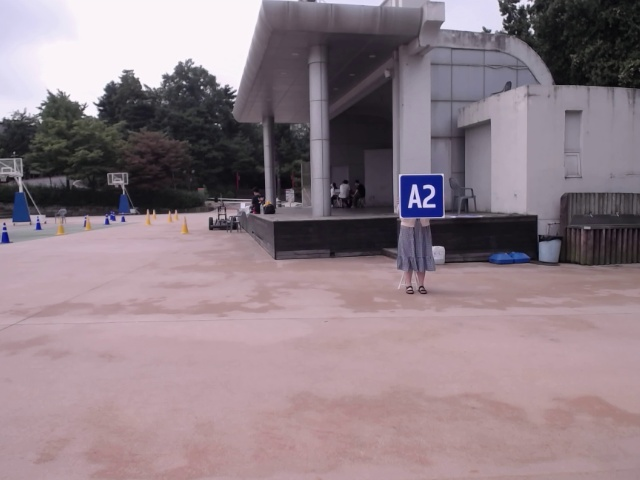delivery_a2: (400, 174, 445, 218)
